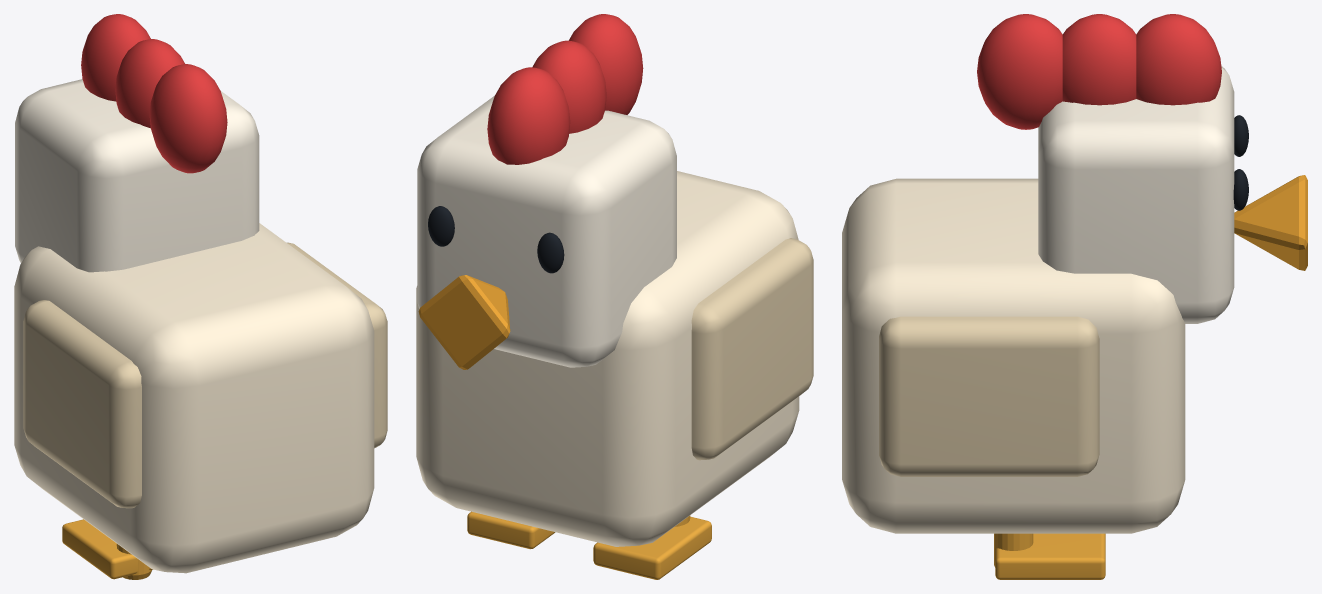
Rendered from chicken.glb.
3 views of the same model, side by side, from view 1: azimuth 30°, elevation 25°; view 2: azimuth 150°, elevation 25°; view 3: azimuth 270°, elevation 25° (orthographic). The views are drawn at different scales.
Visible parts, largest first — view 1: Chicken body, Head, Wing, Comb.002, Comb.001, Comb, Wing.001, Foot; view 2: Chicken body, Head, Wing, Comb, Beak, Comb.002, Comb.001, Foot, Foot.001, Eye, Eye.001; view 3: Chicken body, Head, Wing.001, Comb.002, Comb, Comb.001, Beak, Foot.001, Leg.001.
Part boxes in pixels (left/top/right/bottom): Chicken body: left=14, top=223, right=374, bottom=573; Head: left=15, top=79, right=259, bottom=272; Wing: left=23, top=300, right=141, bottom=508; Comb.002: left=149, top=64, right=227, bottom=173; Comb.001: left=115, top=39, right=184, bottom=128; Comb: left=81, top=14, right=150, bottom=101; Wing.001: left=287, top=242, right=387, bottom=448; Foot: left=62, top=519, right=152, bottom=579; Chicken body: left=416, top=171, right=799, bottom=546; Head: left=417, top=96, right=676, bottom=367; Wing: left=691, top=238, right=813, bottom=460; Comb: left=487, top=67, right=570, bottom=164; Beak: left=418, top=275, right=510, bottom=369; Comb.002: left=569, top=14, right=643, bottom=114; Comb.001: left=532, top=40, right=606, bottom=133; Foot: left=593, top=516, right=711, bottom=579; Foot.001: left=467, top=511, right=555, bottom=549; Eye: left=537, top=232, right=564, bottom=273; Eye.001: left=428, top=206, right=454, bottom=246; Chicken body: left=842, top=178, right=1185, bottom=533; Head: left=1038, top=66, right=1234, bottom=323; Wing.001: left=879, top=316, right=1099, bottom=476; Comb.002: left=977, top=14, right=1062, bottom=129; Comb: left=1136, top=14, right=1221, bottom=105; Comb.001: left=1062, top=14, right=1136, bottom=105; Beak: left=1234, top=175, right=1307, bottom=270; Foot.001: left=995, top=533, right=1105, bottom=579; Leg.001: left=994, top=533, right=1033, bottom=567.
Size of the model in its own units: 1.4 by 2.37 by 1.9.
